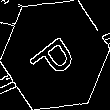P_NE: (26, 25, 84, 85)
